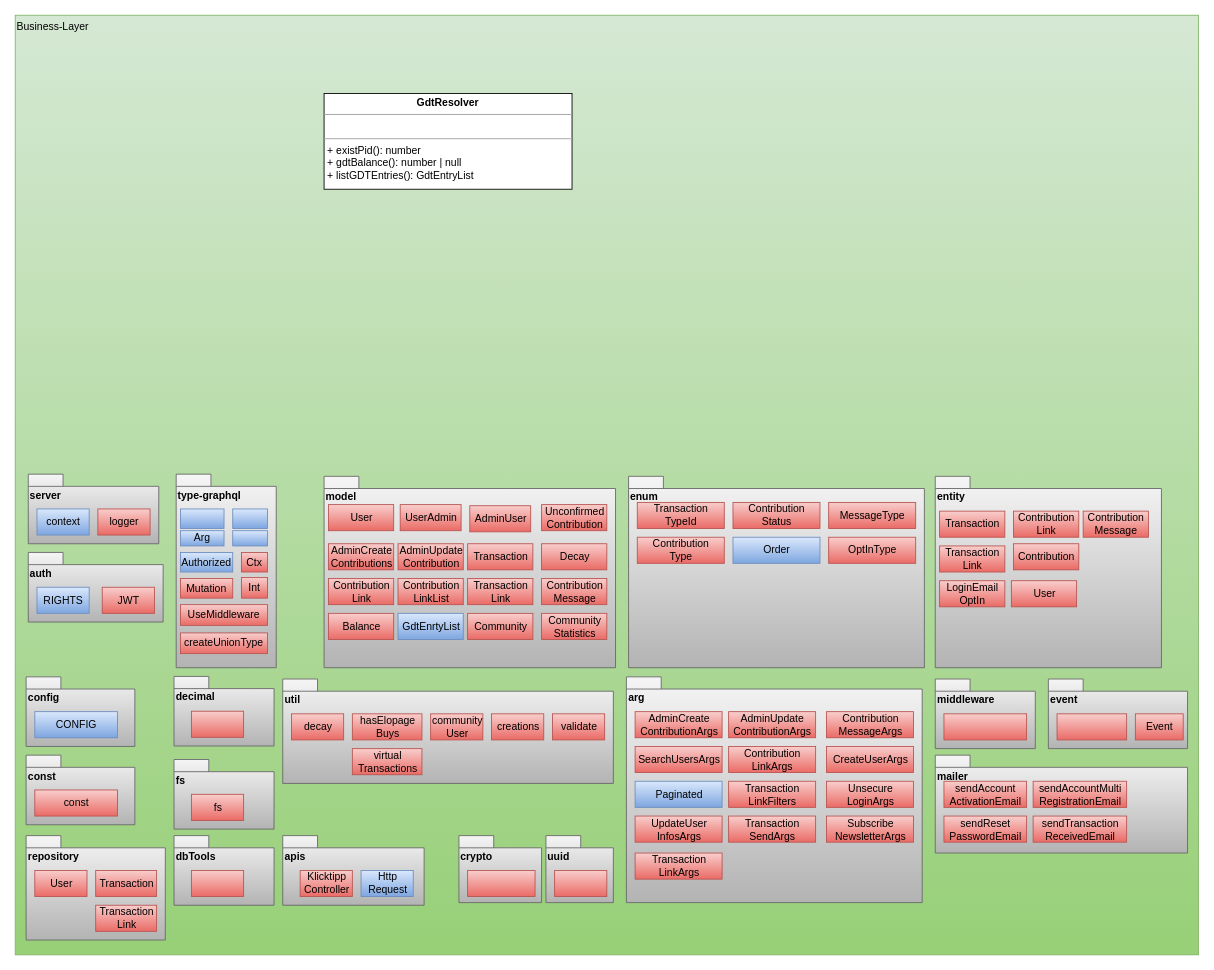
Image size: 1214x970. Some labels were removed from this diagram. Here are the shapes that lost their labels. From the top down, the centre of each, then its label:
At point (202, 518): "Resolver".
At point (250, 518): "Query".
At point (250, 538): "Args".
At point (217, 723): "js-light".
At point (985, 726): "klicktipp Middleware".
At point (1091, 726): "EventProtocol Emitter".
At point (217, 883): "typeorm".
At point (501, 883): "randomBytes".
At point (580, 883): "v4".
